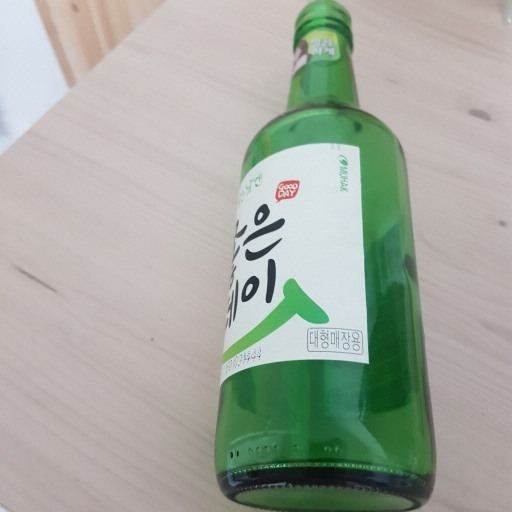Glass_0: (217, 4, 438, 512)
